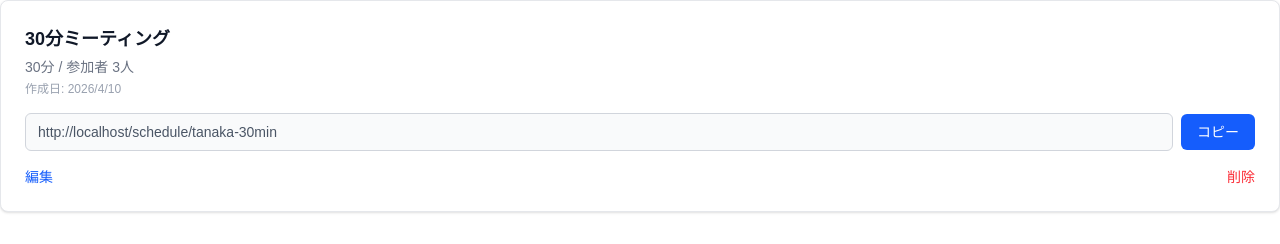
it: ScheduleLinkCard › should show delete confirmation on delete click
The width and height of the screenshot is (1280, 244).
Click the button "削除". click: (1241, 177)
box: left=1227, top=167, right=1255, bottom=187
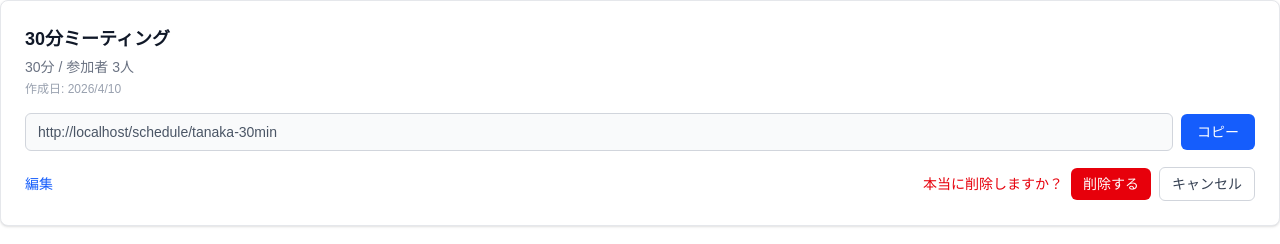
Expected: the text "本当に削除しますか？" is shown, left=923, top=174, right=1063, bottom=194
Expected: the button "削除する" is shown, left=1071, top=168, right=1151, bottom=200
Expected: the button "キャンセル" is shown, left=1159, top=167, right=1255, bottom=201
